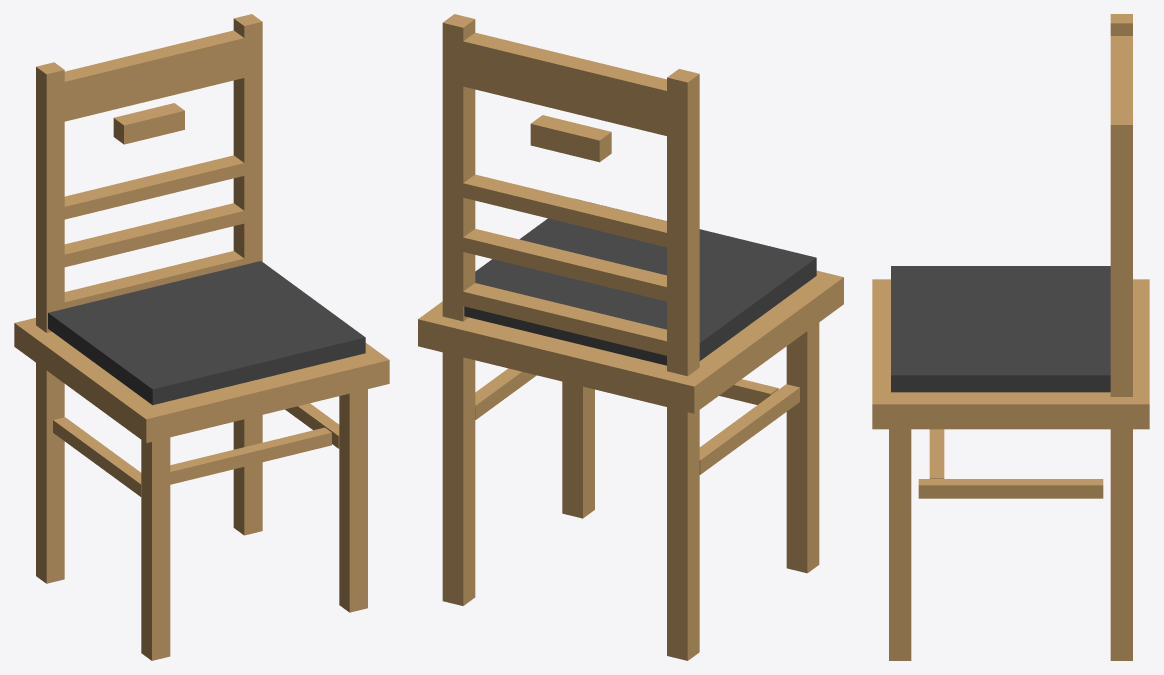
The model's file is chair_1756455819547.gltf.
3 views of the same model, side by side, from view 1: azimuth 30°, elevation 25°; view 2: azimuth 150°, elevation 25°; view 3: azimuth 270°, elevation 25° (orthographic). The views are drawn at different scales.
Bounding box in the file's own units: 1.6 × 3.2 × 1.5.
